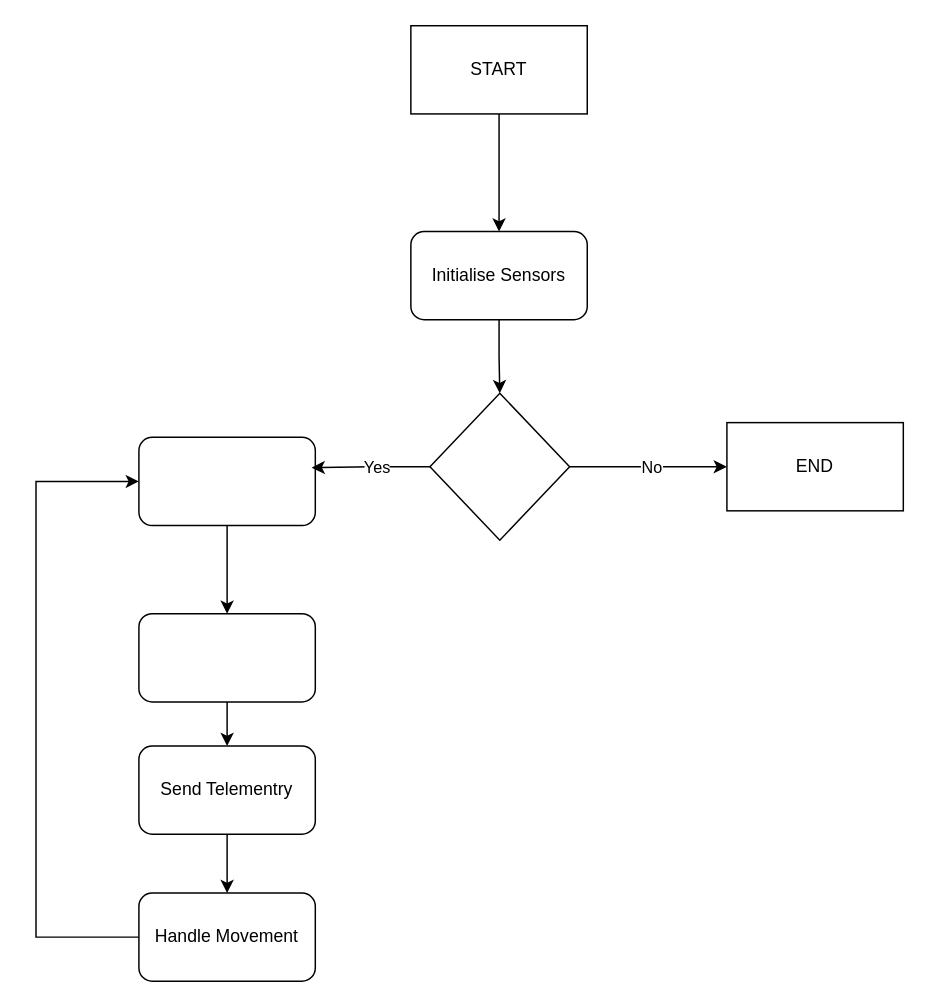
The diagram is 929 pixels wide and 1007 high, and some of its shapes have lost their labels. Here are the shapes that lost their labels. From the top down, the centre of each, then its label:
At point 226,481: "Handle Server Requests".
At point 499,466: "Web Server Started?".
At point 226,657: "Handle Sensor Data".
